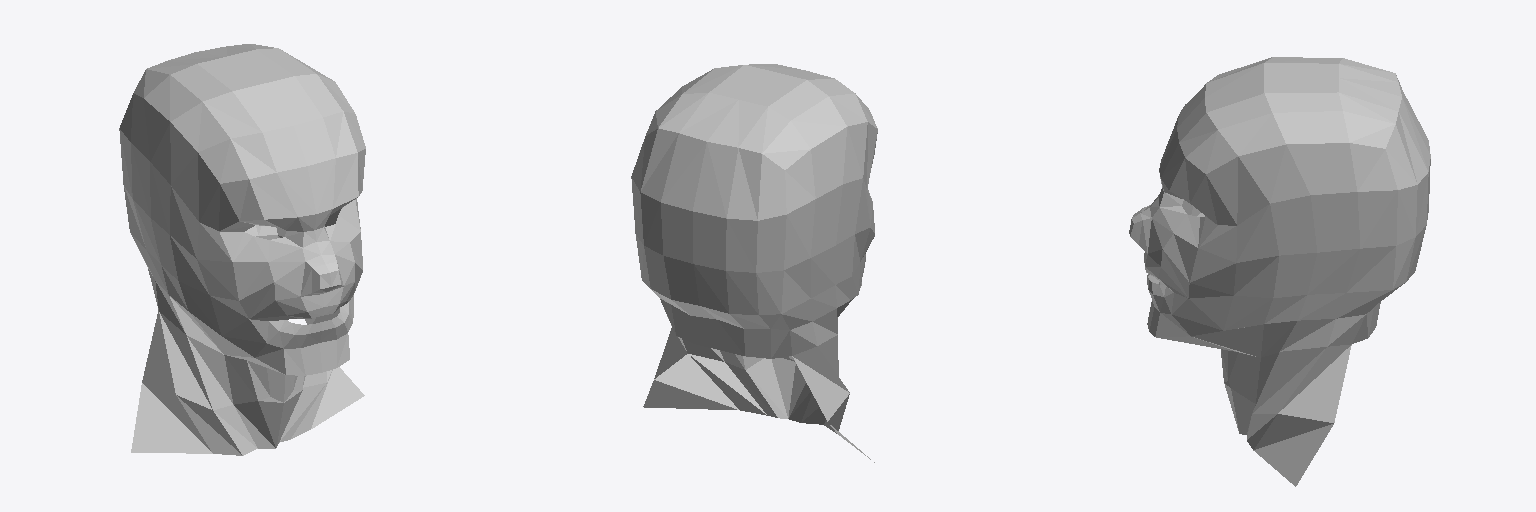
File: week_12_Head_01.obj
3 views of the same model, side by side, from view 1: azimuth 30°, elevation 25°; view 2: azimuth 150°, elevation 25°; view 3: azimuth 270°, elevation 25° (orthographic).
Visible parts, largest first — view 1: head; view 2: head; view 3: head.
Boxes of the visible parts, box(x1,y1,x2,y2) form: head: box(119, 44, 365, 455); head: box(631, 64, 877, 462); head: box(1129, 57, 1430, 486).
Size of the model in its own units: 69.33 by 101 by 77.36.